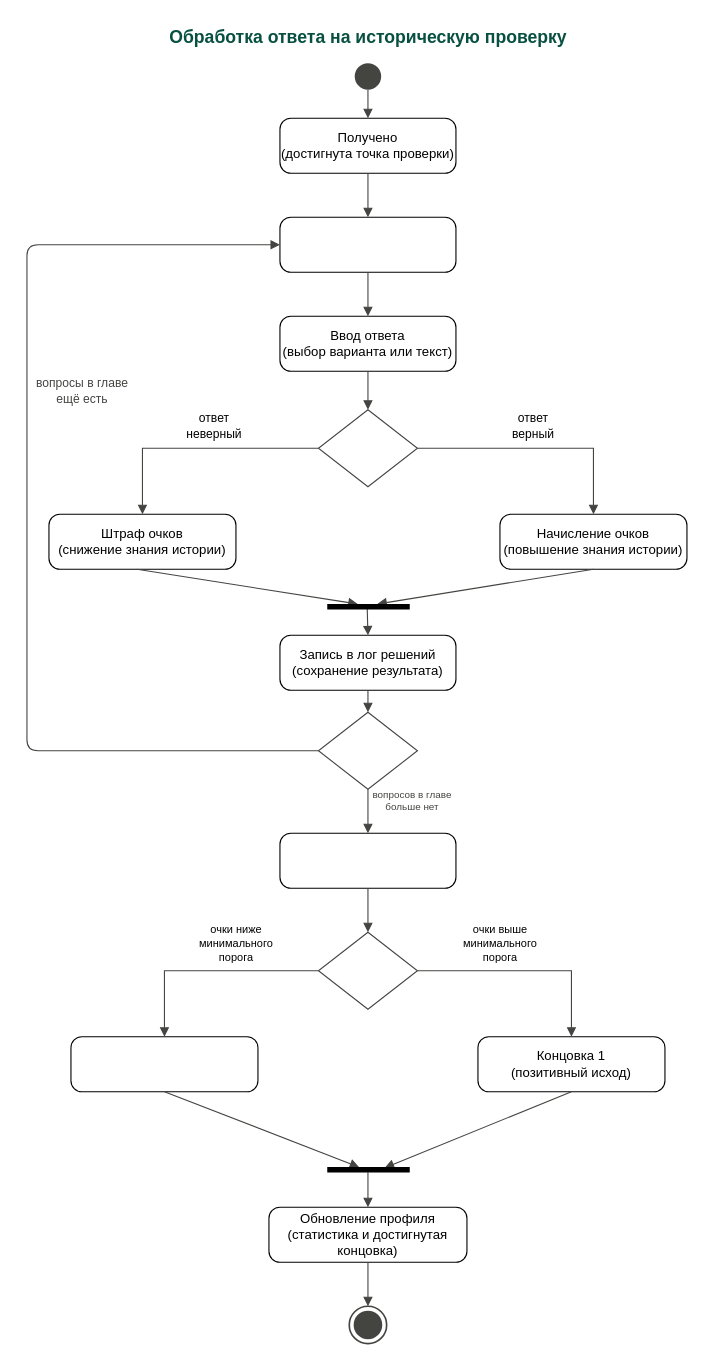
This 706x1363 diagram has some shape labels left out. The shapes that lost their labels are listed below. From the top down, each one's box as (x1, y1, x2, y2) in pixels, then its label:
(279, 216, 456, 272): Выбор вопроса (из реестра констант главы)
(279, 832, 456, 888): Подсчёт итога главы (суммарный уровень знаний)
(70, 1036, 258, 1092): Концовка 2 (негативный исход)
